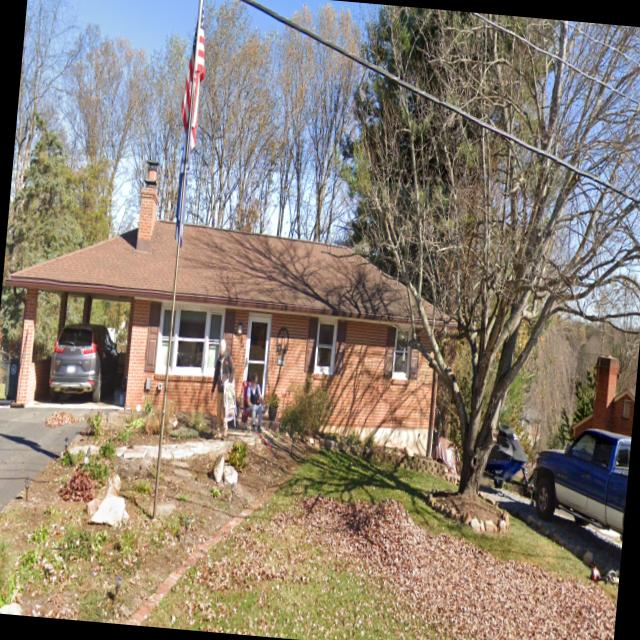House: (0, 148, 469, 458), (569, 352, 638, 446), (595, 357, 610, 368)
